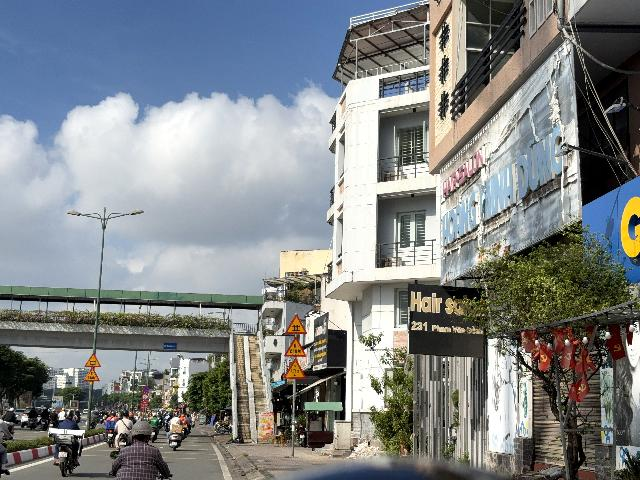chieu-cao-tinh-khong-thuc-te: (283, 358, 307, 379)
di-cham: (284, 336, 307, 356), (83, 368, 100, 382)
noi-giao-nhau-voi-duong-sat-co-rao-chan: (285, 314, 307, 334), (84, 352, 101, 367)
